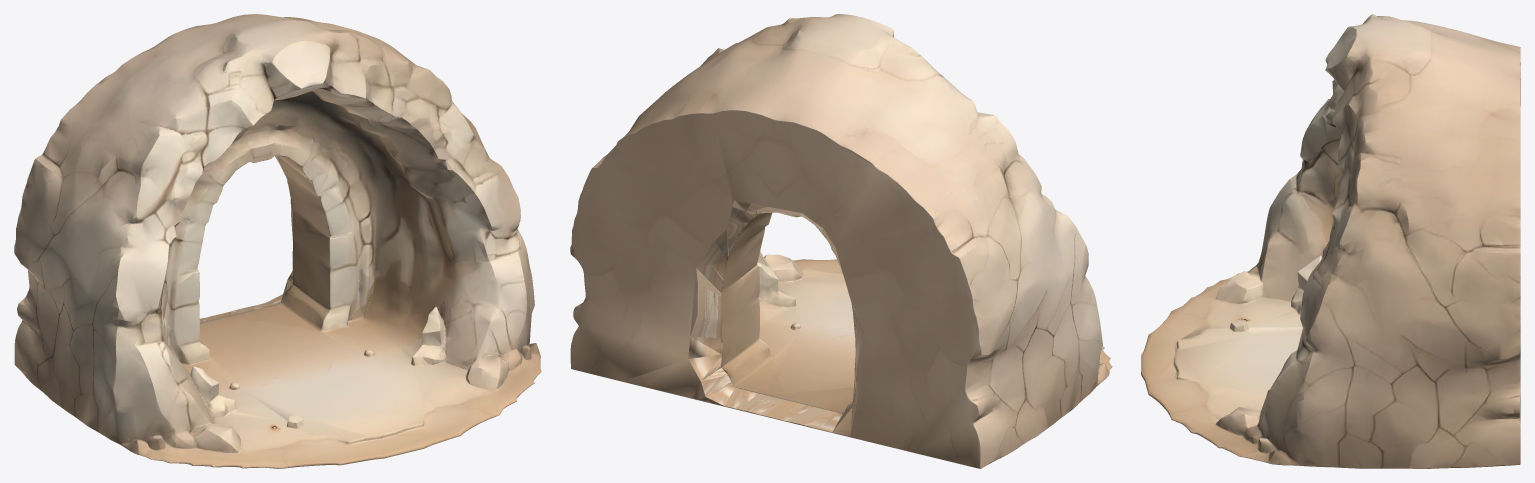
File: mina.glb
The picture shows the model from 3 angles, left to right: view 1: azimuth 30°, elevation 25°; view 2: azimuth 150°, elevation 25°; view 3: azimuth 270°, elevation 25°; orthographic projection. The views are drawn at different scales.
Visible parts, largest first — view 1: output_Base_0; view 2: output_Base_0; view 3: output_Base_0.
Boxes of the visible parts, x1,y1,x2,y2 form: output_Base_0: (14, 14, 541, 468); output_Base_0: (570, 14, 1112, 468); output_Base_0: (1141, 14, 1520, 468).
Bounding box in the file's own units: 1.81 × 1.36 × 1.4.
Materials: 1 (1 with a texture image).
